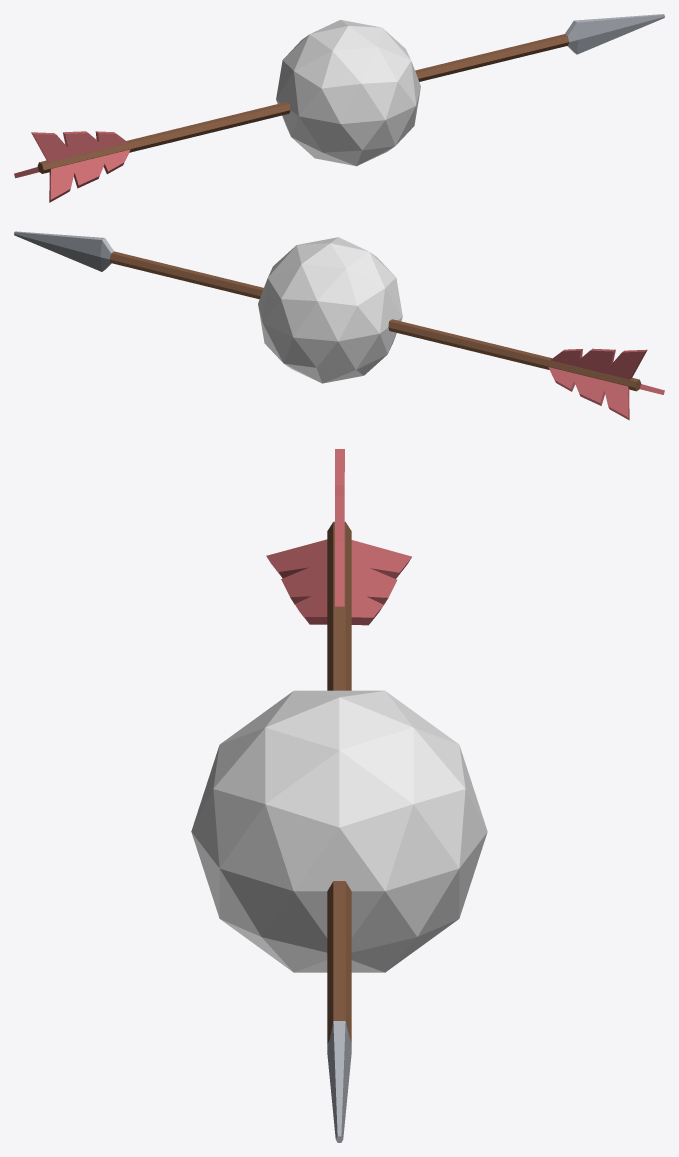
The model's file is Arrow.glb.
3 renders of one model, top to bottom at view 1: azimuth 30°, elevation 25°; view 2: azimuth 150°, elevation 25°; view 3: azimuth 270°, elevation 25°, orthographic. The views are drawn at different scales.
Parts seen in each view (by area): view 1: Icosphere, Arrow; view 2: Icosphere, Arrow; view 3: Icosphere, Arrow.
Boxes of the visible parts, box(x1,y1,x2,y2) form: Icosphere: box(276, 20, 420, 166); Arrow: box(14, 14, 664, 202); Icosphere: box(258, 237, 402, 383); Arrow: box(14, 231, 664, 420); Icosphere: box(191, 690, 487, 972); Arrow: box(266, 449, 411, 1142).
Size of the model in its own units: 1.97 by 0.4 by 0.4.
